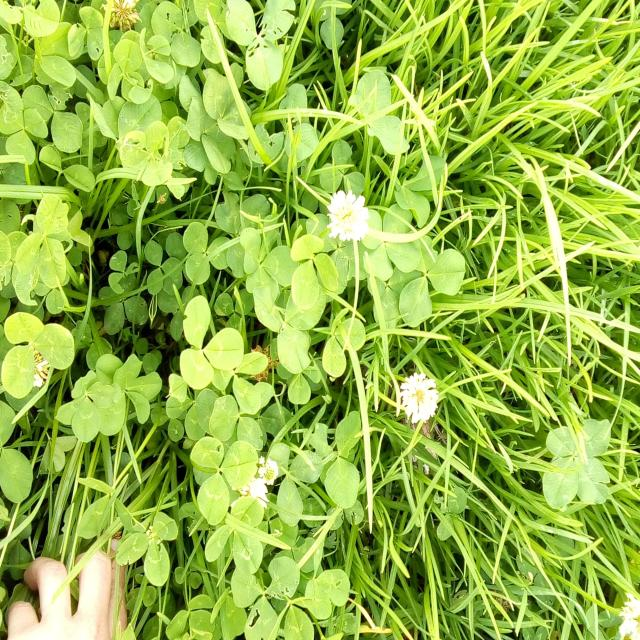Four Leaf Clover: (542, 419, 611, 509), (54, 370, 122, 443), (361, 203, 422, 281)
